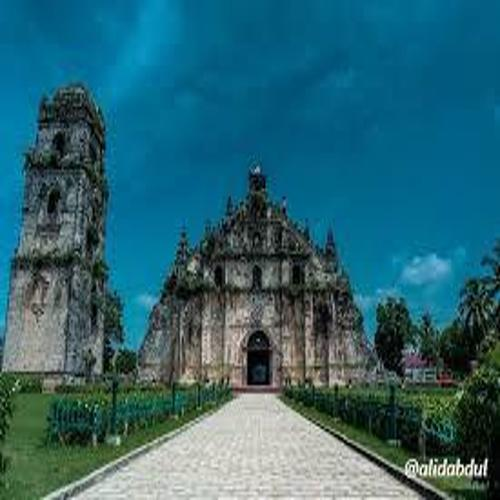Paoay Church: (2, 76, 386, 391)
